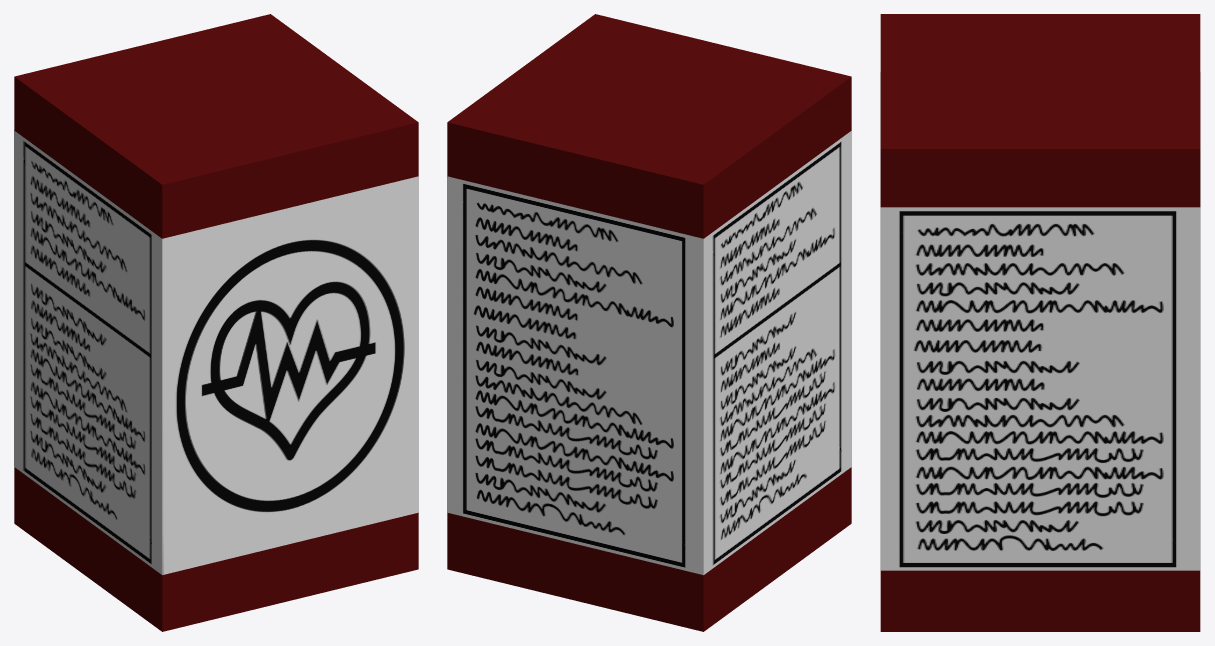
The model's file is bpHealthOTC.fbx.
The picture shows the model from 3 angles, left to right: view 1: azimuth 30°, elevation 25°; view 2: azimuth 150°, elevation 25°; view 3: azimuth 270°, elevation 25°; orthographic projection. The views are drawn at different scales.
Parts seen in each view (by area): view 1: bpHealthLabel, heartBox; view 2: bpHealthLabel, heartBox; view 3: bpHealthLabel, heartBox.
Boxes of the visible parts, x1,y1,x2,y2 form: bpHealthLabel: (14, 130, 418, 574); heartBox: (14, 14, 418, 631); bpHealthLabel: (447, 130, 851, 575); heartBox: (447, 14, 851, 631); bpHealthLabel: (880, 72, 1200, 570); heartBox: (880, 14, 1200, 631).
Size of the model in its own units: 12.01 by 20 by 12.01.
